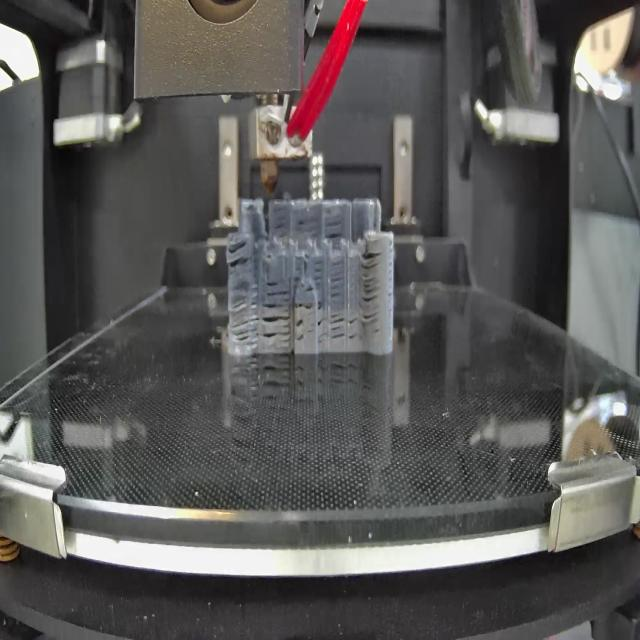cracks: (228, 283, 258, 344), (361, 249, 381, 325), (262, 303, 290, 341), (228, 242, 254, 266), (329, 262, 344, 299), (267, 277, 291, 299), (330, 314, 346, 340), (324, 222, 345, 240), (295, 318, 306, 345), (313, 257, 323, 286), (315, 302, 324, 331), (292, 260, 301, 286), (295, 298, 314, 310), (296, 216, 311, 231), (276, 217, 289, 234), (349, 318, 357, 341), (306, 283, 314, 295)
